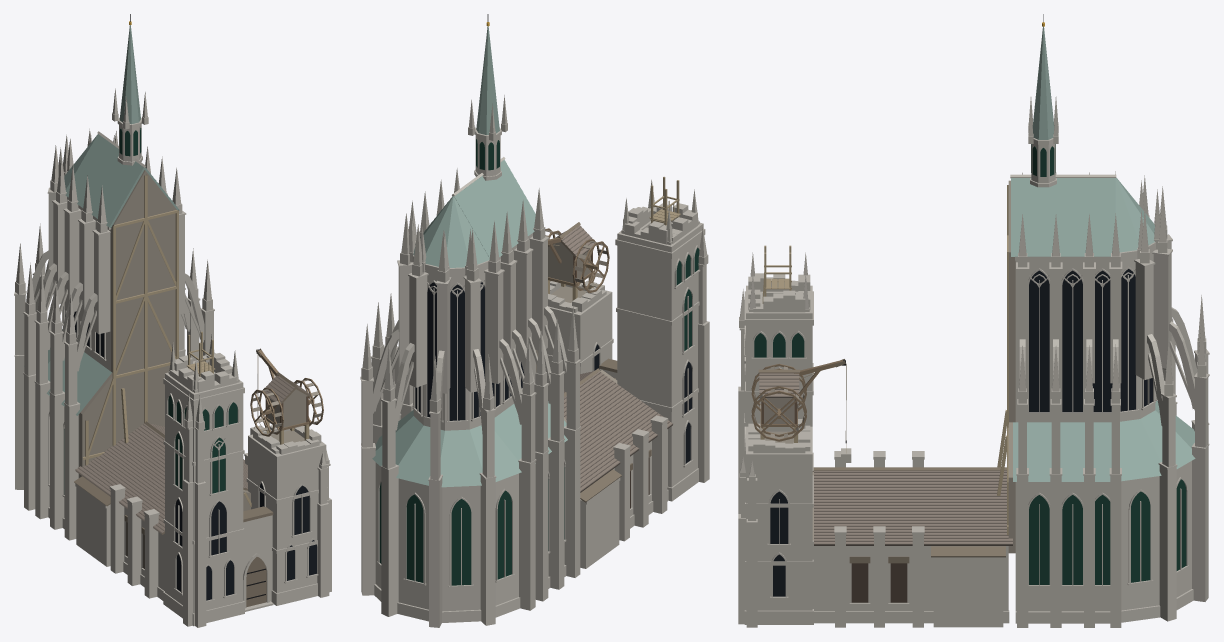
File: koelner_dom.glb
3 renders of one model, left to right at view 1: azimuth 30°, elevation 25°; view 2: azimuth 150°, elevation 25°; view 3: azimuth 270°, elevation 25°, orthographic. The views are drawn at different scales.
Visible parts, largest first — view 1: Chor, Nordturm, Wand_hinten, Suedturm, Wand_links, Notdach, Notportal, Kranhaus, Tretrad; view 2: Chor, Nordturm, Wand_links, Notdach, Suedturm, Kranhaus, Tretrad; view 3: Chor, Wand_rechts, Notdach, Suedturm, Nordturm, Wand_hinten, Kranhaus, Tretrad.
Boxes of the visible parts, x1,y1,x2,y2 form: Chor: (14, 14, 214, 540); Nordturm: (163, 331, 244, 627); Wand_hinten: (79, 170, 178, 477); Suedturm: (246, 425, 331, 605); Wand_links: (74, 476, 164, 600); Notdach: (75, 421, 251, 534); Notportal: (243, 506, 273, 611); Kranhaus: (250, 348, 312, 444); Tretrad: (250, 378, 323, 436); Chor: (360, 14, 581, 627); Nordturm: (615, 176, 709, 501); Wand_links: (580, 415, 668, 568); Notdach: (564, 368, 673, 492); Suedturm: (546, 280, 613, 373); Kranhaus: (548, 222, 594, 300); Tretrad: (545, 228, 609, 293); Chor: (1010, 14, 1209, 627); Wand_rechts: (812, 526, 1009, 627); Notdach: (812, 467, 1012, 545); Suedturm: (738, 419, 813, 627); Nordturm: (738, 245, 813, 513); Wand_hinten: (997, 180, 1015, 553); Kranhaus: (758, 359, 851, 462); Tretrad: (751, 363, 806, 441).
Size of the model in its own units: 13.95 by 45.5 by 33.9.
